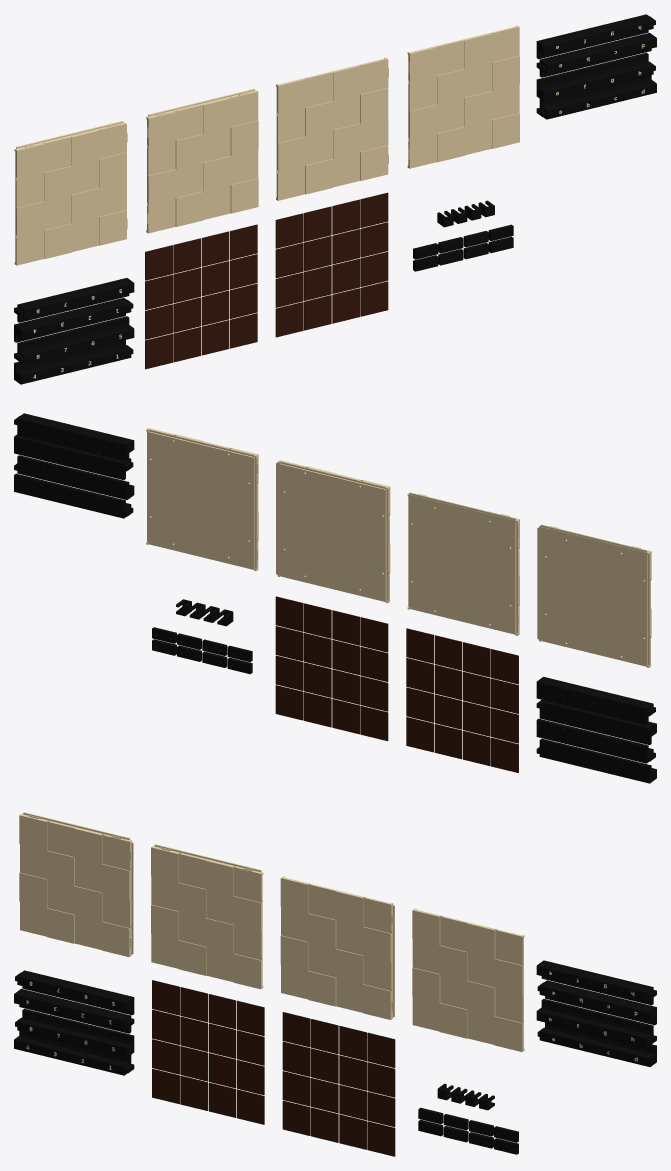
File: .separated_print_kit.step.glb
The picture shows the model from 3 angles, top to bottom: view 1: azimuth 30°, elevation 25°; view 2: azimuth 150°, elevation 25°; view 3: azimuth 330°, elevation 25°; orthographic projection.
Parts seen in each view (by area): view 1: o1.1.1, o1.2.1, o1.3.1, o1.4.1, o1.6.2.1, o1.5.2.1, o1.6.1.1, o1.5.1.1, o1.5.3.1, o1.6.4.1, o1.5.4.1, o1.6.3.1 (+32 smaller); view 2: o1.1.1, o1.3.1, o1.2.1, o1.4.1, o1.5.4.1, o1.6.4.1, o1.6.3.1, o1.5.3.1, o1.6.1.1, o1.5.2.1, o1.6.2.1, o1.5.1.1 (+32 smaller); view 3: o1.1.1, o1.2.1, o1.3.1, o1.4.1, o1.5.2.1, o1.6.2.1, o1.5.1.1, o1.6.1.1, o1.6.3.1, o1.5.4.1, o1.6.4.1, o1.5.3.1 (+32 smaller).
Part boxes in pixels (x1=…): o1.1.1: x1=14, y1=121, x2=127, y2=265; o1.2.1: x1=146, y1=89, x2=258, y2=233; o1.3.1: x1=276, y1=57, x2=388, y2=200; o1.4.1: x1=407, y1=25, x2=519, y2=168; o1.6.2.1: x1=14, y1=316, x2=134, y2=364; o1.5.2.1: x1=536, y1=52, x2=655, y2=101; o1.6.1.1: x1=14, y1=340, x2=133, y2=384; o1.5.1.1: x1=536, y1=75, x2=656, y2=119; o1.5.3.1: x1=536, y1=32, x2=656, y2=77; o1.6.4.1: x1=14, y1=278, x2=134, y2=322; o1.5.4.1: x1=536, y1=14, x2=655, y2=59; o1.6.3.1: x1=14, y1=298, x2=133, y2=342; o1.1.1: x1=537, y1=524, x2=651, y2=667; o1.3.1: x1=276, y1=460, x2=390, y2=603; o1.2.1: x1=407, y1=492, x2=519, y2=635; o1.4.1: x1=146, y1=428, x2=258, y2=570; o1.5.4.1: x1=14, y1=413, x2=134, y2=461; o1.6.4.1: x1=536, y1=677, x2=655, y2=725; o1.6.3.1: x1=536, y1=700, x2=656, y2=745; o1.5.3.1: x1=14, y1=434, x2=133, y2=480; o1.6.1.1: x1=536, y1=738, x2=656, y2=783; o1.5.2.1: x1=14, y1=455, x2=134, y2=499; o1.6.2.1: x1=536, y1=718, x2=655, y2=763; o1.5.1.1: x1=14, y1=473, x2=133, y2=518; o1.1.1: x1=19, y1=812, x2=133, y2=957; o1.2.1: x1=151, y1=844, x2=263, y2=989; o1.3.1: x1=280, y1=876, x2=394, y2=1019; o1.4.1: x1=412, y1=908, x2=524, y2=1051; o1.5.2.1: x1=536, y1=999, x2=656, y2=1047; o1.6.2.1: x1=15, y1=1008, x2=134, y2=1057; o1.5.1.1: x1=537, y1=1022, x2=656, y2=1066; o1.6.1.1: x1=14, y1=1031, x2=134, y2=1075; o1.6.3.1: x1=14, y1=988, x2=134, y2=1033; o1.5.4.1: x1=536, y1=960, x2=656, y2=1005; o1.6.4.1: x1=15, y1=970, x2=134, y2=1015; o1.5.3.1: x1=537, y1=980, x2=656, y2=1025.
Size of the model in its own units: 1.39 by 0.5292 by 0.0276.
